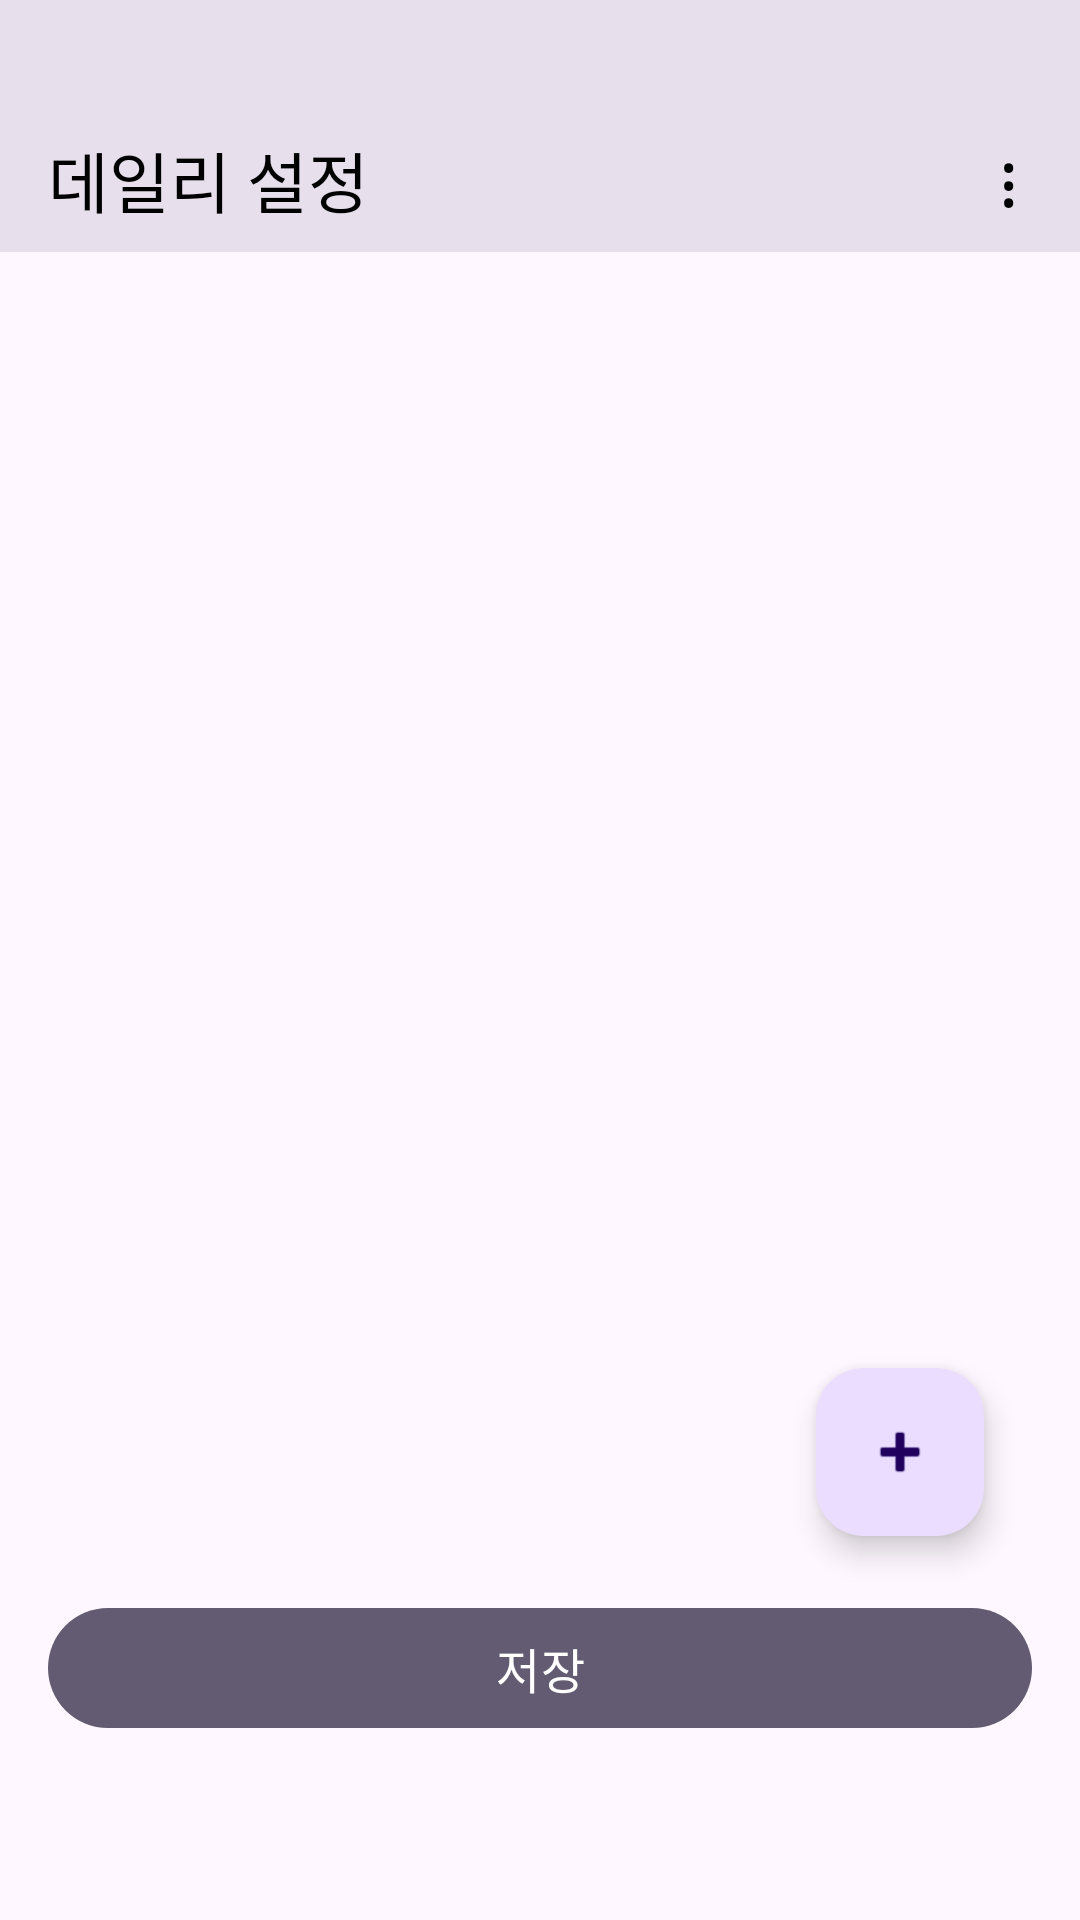

Point at icon controls on the screen. Image size 1080px×1920px, points as (x,y).
앱 추가: (900,1452)
